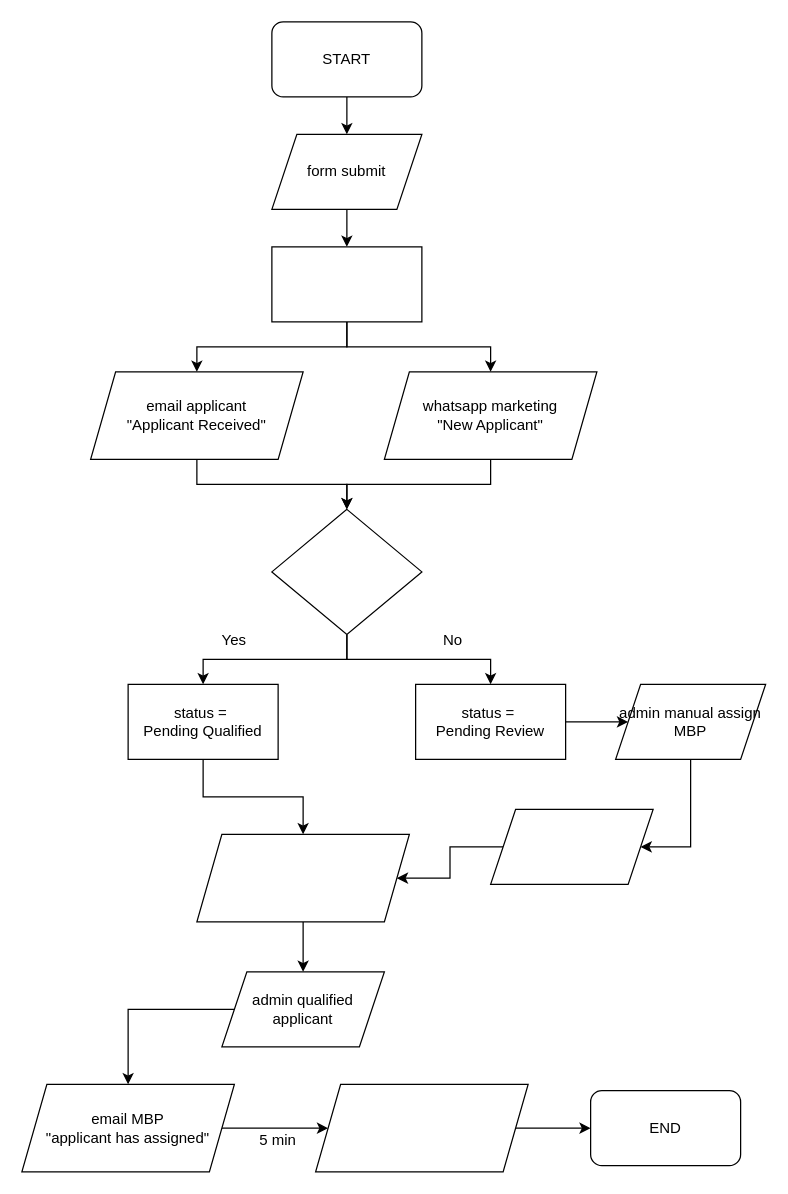
Image size: 788x1194. Some labels were removed from this diagram. The centre of each missing label's shape, as x and y in pixels:
admin change status to Pending Qualified: point (571, 846)
applicant create: point (346, 284)
email applicant "MBP has assigned": point (302, 877)
got referral code?: point (346, 571)
welcome applicant with login password: point (421, 1127)
